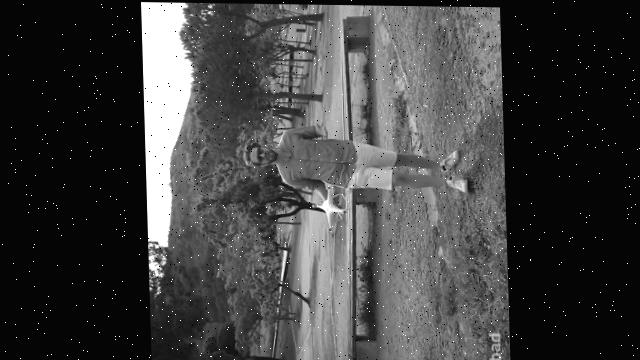drone: (308, 183, 347, 233)
